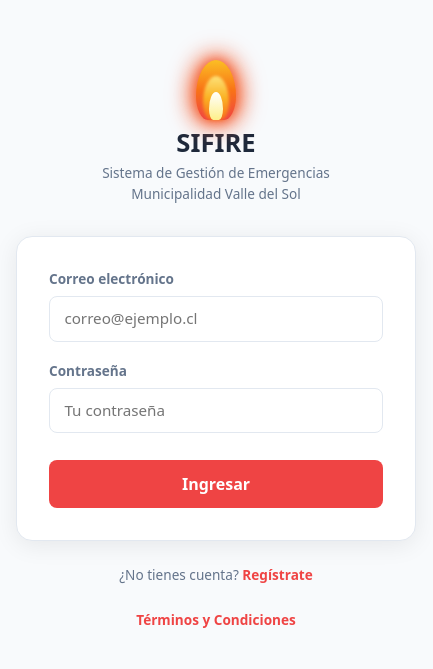
Test: Login — validaciones del formulario › muestra error si el email es invalido
In the field labelled "Correo electrónico": [216, 319] box [49, 296, 383, 342], type "no-es-email"
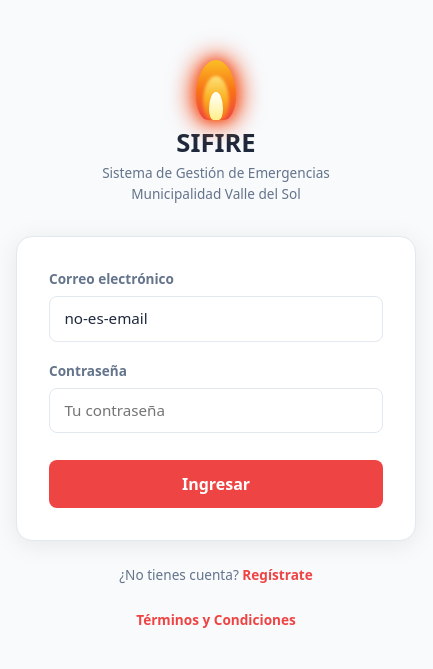
Click the button "Ingresar": [216, 484] box [49, 460, 383, 508]
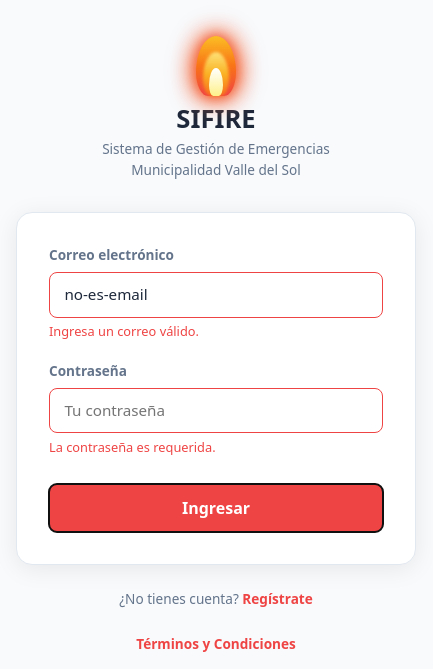
Check: the text "Ingresa un correo válido." is shown, box [49, 322, 199, 340]
